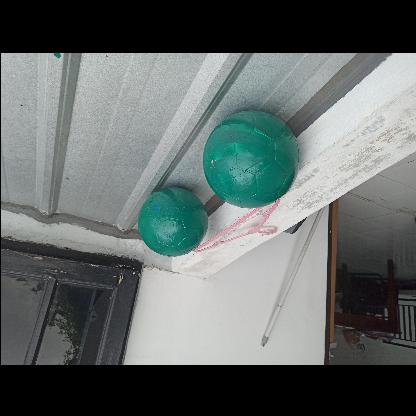green_ball: (200, 108, 298, 207), (135, 187, 205, 257)
